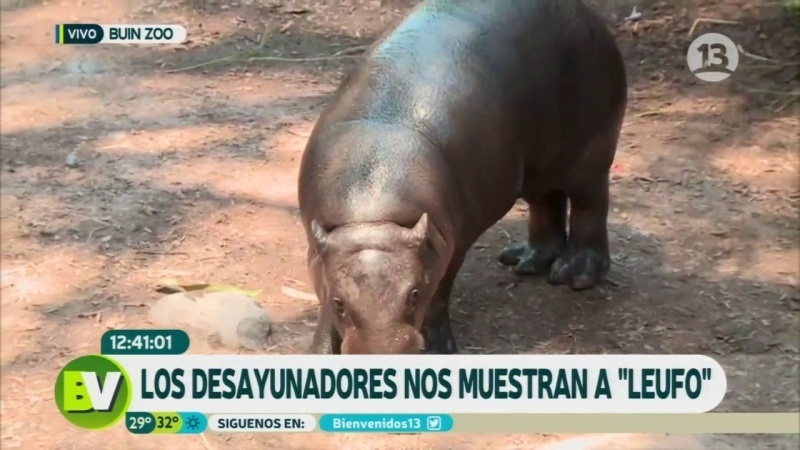hipopotamo: (284, 1, 625, 353)
